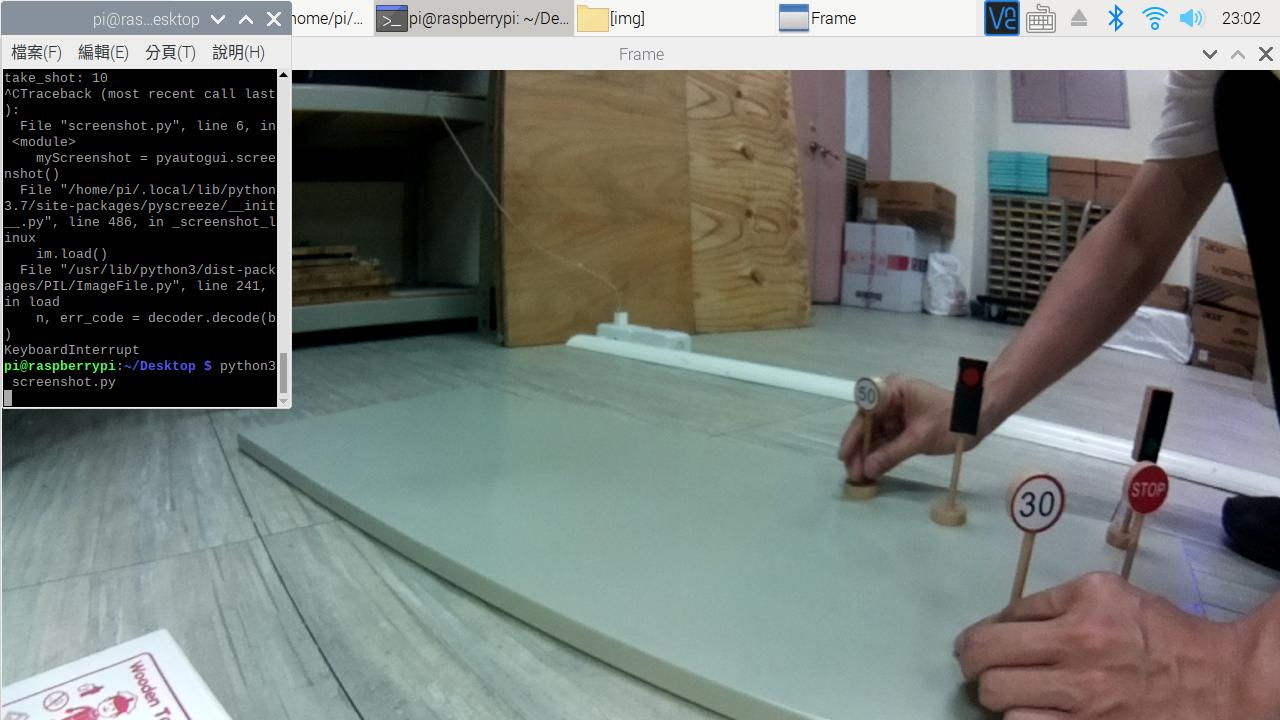Green: (1140, 383, 1168, 462)
Red: (957, 353, 977, 435)
Speed30: (1016, 474, 1058, 530)
Speed50: (851, 377, 884, 409)
Stop: (1129, 468, 1168, 514)
